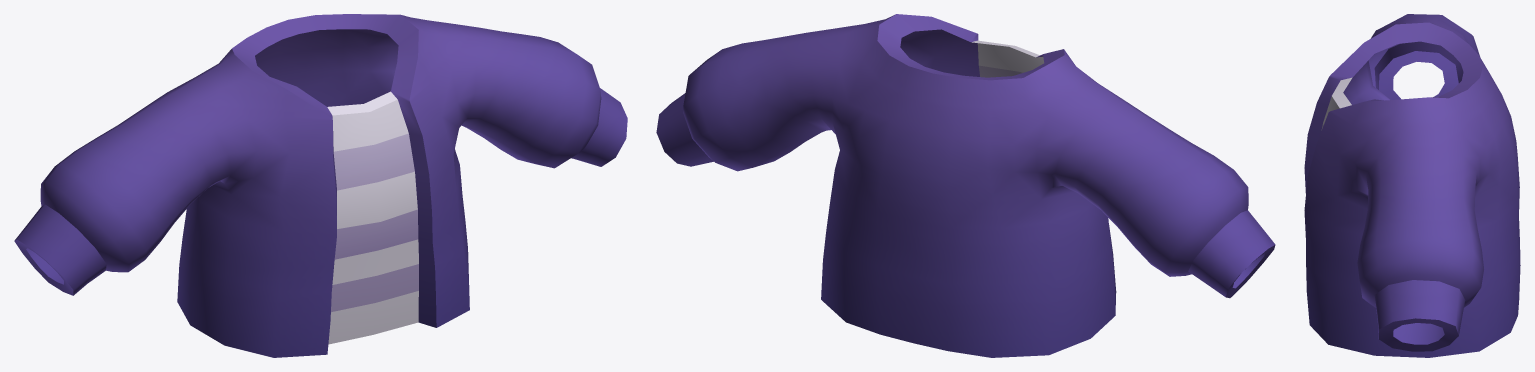
Rendered from Outwear_08.glb.
3 renders of one model, left to right at view 1: azimuth 30°, elevation 25°; view 2: azimuth 150°, elevation 25°; view 3: azimuth 270°, elevation 25°, orthographic. The views are drawn at different scales.
Parts seen in each view (by area): view 1: Outwear_08; view 2: Outwear_08; view 3: Outwear_08.
Part boxes in pixels (<box>): Outwear_08: <box>14,14,627,357</box>; Outwear_08: <box>656,14,1275,357</box>; Outwear_08: <box>1304,14,1520,357</box>.
Bounding box in the file's own units: 0.6128 × 0.257 × 0.2091.
Materials: 1 (1 with a texture image).
